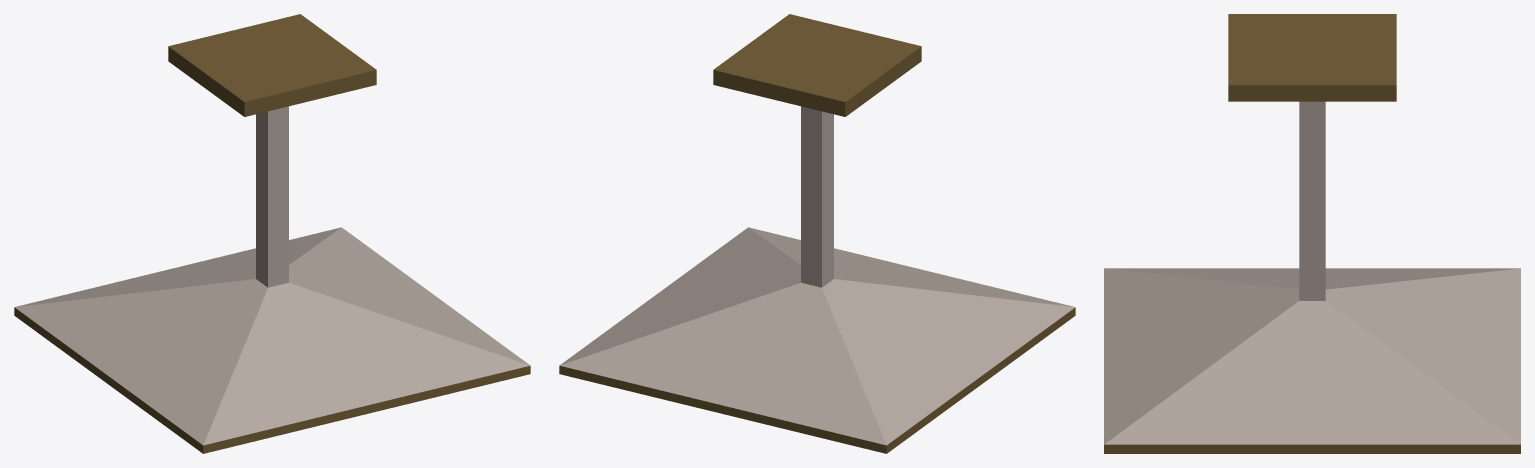
File: table[1].fbx
3 renders of one model, left to right at view 1: azimuth 30°, elevation 25°; view 2: azimuth 150°, elevation 25°; view 3: azimuth 270°, elevation 25°, orthographic. The views are drawn at different scales.
Parts seen in each view (by area): view 1: Cube; view 2: Cube; view 3: Cube.
Boxes of the visible parts, <box> form: Cube: <box>14,14,530,453</box>; Cube: <box>559,14,1075,453</box>; Cube: <box>1104,14,1520,453</box>.
Bounding box in the file's own units: 3246 × 2717 × 3246.
